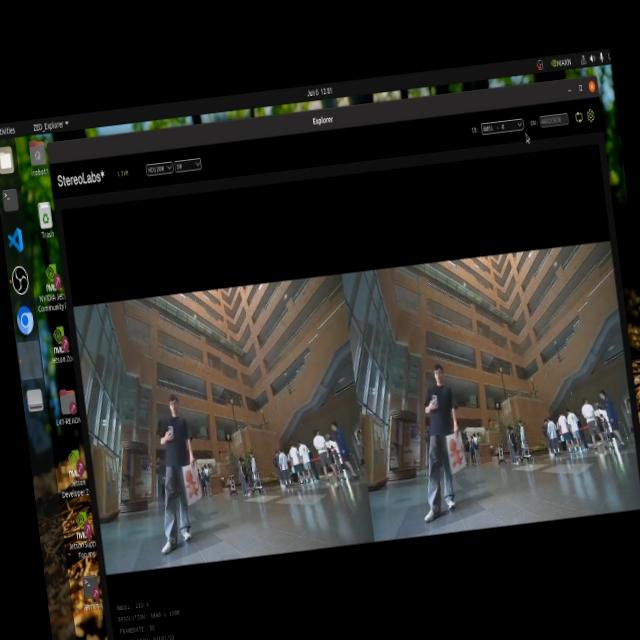red: (446, 438, 466, 471), (183, 467, 201, 500)
